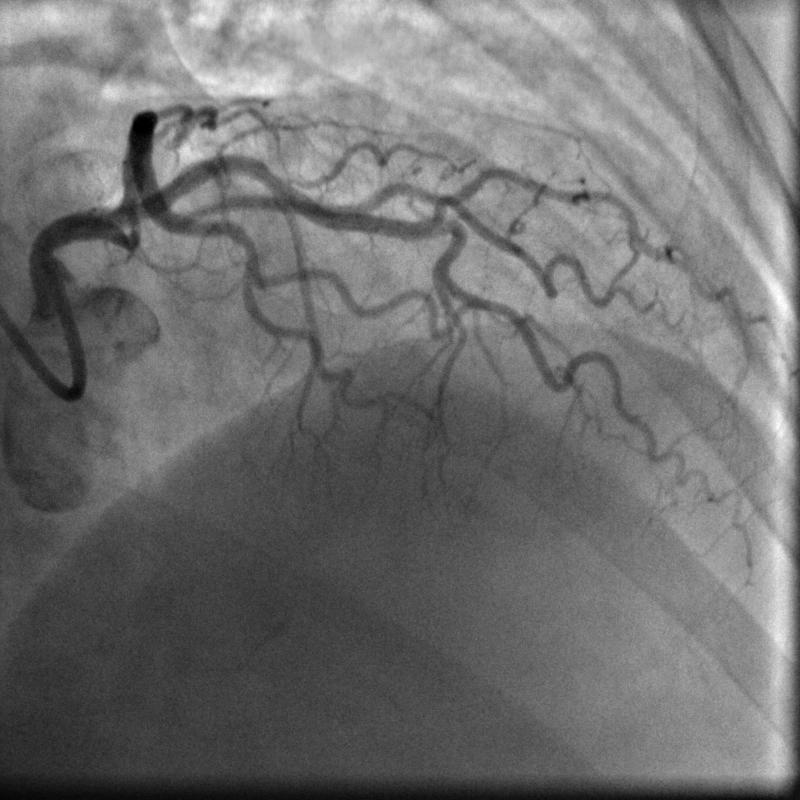Stenosis: (117, 199, 142, 250)
